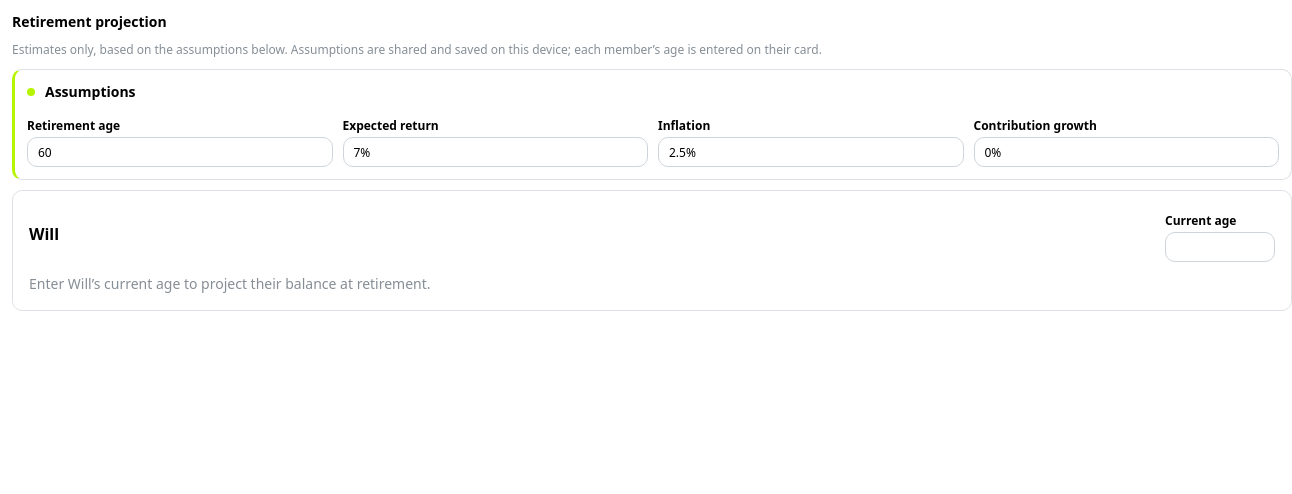
Test case: RetirementProjection › projects a nil balance without dividing by zero when there is nothing to grow
The width and height of the screenshot is (1292, 494).
Type "40" into the field named "will current age" at (1220, 247), box [1165,232,1275,262]
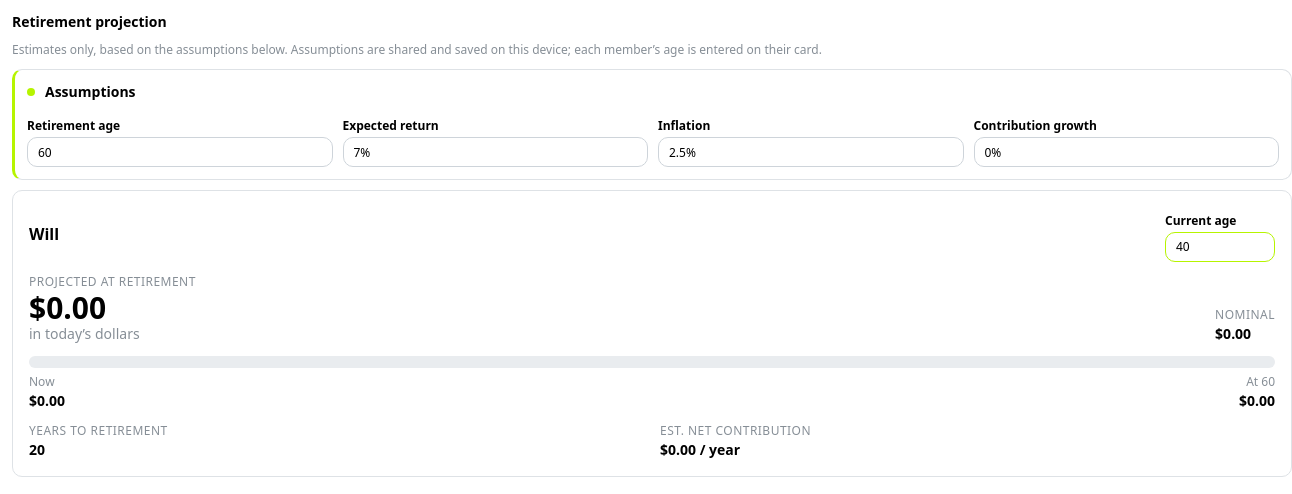
Result: the text "$0.00" below "Projected at retirement" is shown at [29,287,106,328]
